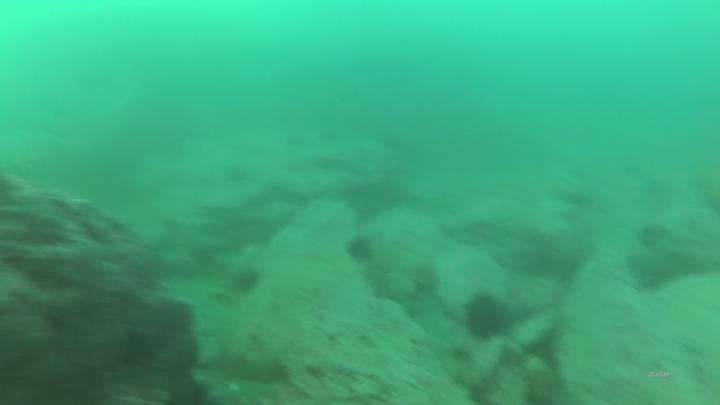echinus: (460, 292, 509, 345), (529, 334, 563, 373), (344, 233, 378, 267), (229, 265, 265, 297), (187, 244, 217, 268), (223, 165, 249, 187)
